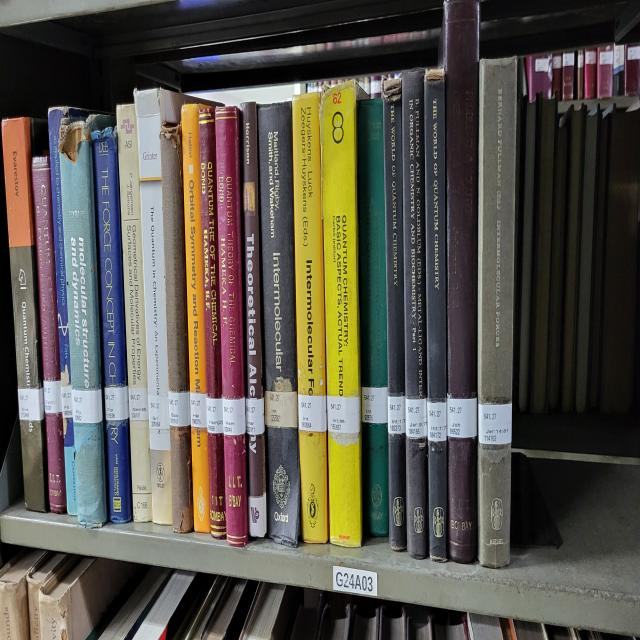Book: (59, 116, 114, 528), (444, 0, 480, 563), (320, 81, 362, 547), (258, 106, 300, 544), (292, 95, 329, 544), (91, 127, 132, 522), (116, 106, 152, 522), (215, 106, 248, 547), (358, 97, 389, 536), (402, 68, 429, 557), (478, 60, 516, 403), (31, 157, 66, 514), (181, 103, 210, 533), (424, 68, 448, 560), (241, 103, 268, 538), (199, 108, 226, 538), (382, 78, 406, 549), (48, 106, 86, 387), (10, 246, 49, 511), (140, 181, 169, 430)
Label: (478, 403, 512, 444), (448, 395, 478, 438), (265, 390, 298, 427), (328, 395, 360, 433), (149, 395, 170, 452), (71, 390, 102, 425), (298, 395, 326, 433), (361, 387, 388, 425), (18, 387, 45, 422), (405, 398, 428, 438), (222, 398, 246, 436), (105, 387, 129, 422), (169, 390, 190, 427), (428, 400, 446, 441), (246, 398, 265, 436), (129, 387, 149, 422), (388, 395, 405, 436), (44, 379, 62, 414), (206, 398, 224, 433), (190, 392, 206, 427), (61, 384, 72, 419)
